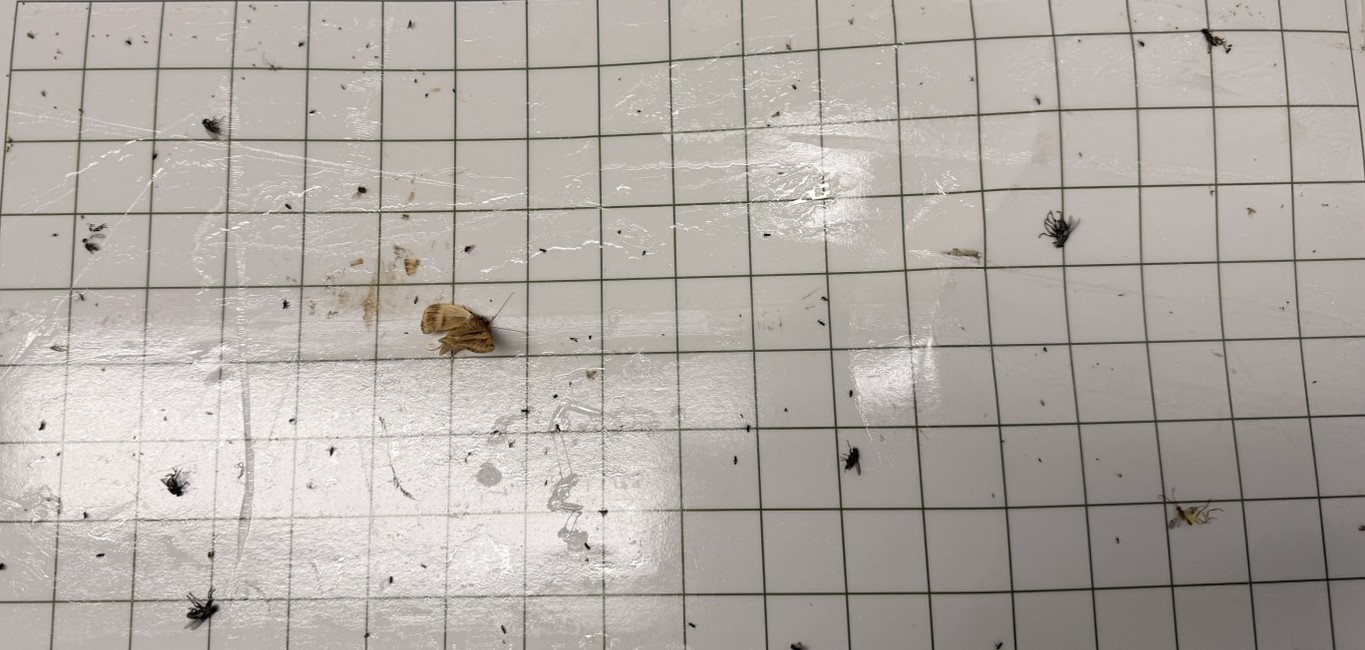fly: (1034, 204, 1083, 250), (177, 586, 225, 632), (153, 465, 196, 499), (838, 438, 871, 477), (200, 114, 231, 140), (79, 235, 107, 259)
test: (421, 298, 501, 360), (1157, 487, 1231, 536), (1198, 25, 1239, 58), (21, 27, 41, 44), (47, 340, 68, 356), (353, 183, 371, 200), (87, 220, 108, 234), (324, 442, 341, 458), (582, 368, 600, 380), (1244, 204, 1259, 218), (518, 404, 533, 418), (787, 639, 806, 650), (462, 243, 478, 256), (551, 421, 564, 436), (497, 622, 512, 635), (280, 296, 293, 310), (783, 39, 796, 53), (1031, 94, 1044, 108), (1135, 38, 1149, 51), (461, 451, 475, 464), (596, 506, 611, 518), (819, 291, 832, 304), (581, 540, 594, 553), (536, 245, 550, 257), (36, 418, 48, 432), (75, 289, 87, 303), (269, 61, 282, 73), (815, 318, 828, 330), (1112, 534, 1124, 547), (385, 575, 398, 587), (405, 18, 417, 30), (205, 549, 217, 561), (1036, 397, 1049, 408), (5, 136, 15, 150), (150, 150, 160, 164), (845, 16, 857, 27), (1040, 344, 1051, 356), (505, 440, 517, 451), (283, 202, 296, 212), (770, 108, 783, 118), (399, 211, 410, 222), (994, 639, 1005, 650), (639, 247, 649, 259), (568, 335, 580, 345), (780, 406, 792, 416), (419, 561, 429, 573), (847, 388, 856, 401), (123, 38, 134, 48), (789, 82, 800, 92), (776, 169, 787, 179), (1074, 37, 1085, 47), (1277, 200, 1287, 211), (1319, 200, 1330, 210), (989, 490, 999, 501), (744, 423, 754, 434), (731, 455, 741, 466), (490, 428, 501, 438), (687, 620, 697, 631), (287, 415, 297, 426), (761, 231, 773, 240), (968, 72, 977, 84), (1208, 187, 1217, 199), (360, 631, 372, 640), (1114, 291, 1127, 299), (1356, 521, 1364, 534), (38, 89, 49, 98), (1116, 470, 1127, 479), (549, 392, 560, 401), (542, 447, 551, 458), (412, 293, 421, 304), (80, 511, 91, 520), (95, 551, 106, 560), (43, 494, 54, 503), (77, 104, 86, 114), (50, 230, 59, 240), (308, 107, 318, 116), (450, 87, 460, 96), (1283, 297, 1293, 306), (1094, 454, 1104, 463), (205, 409, 215, 418), (225, 437, 234, 447), (542, 477, 550, 488), (54, 449, 62, 460), (53, 29, 62, 38), (190, 33, 199, 42), (239, 73, 248, 82), (339, 83, 348, 92), (1172, 24, 1181, 33), (737, 412, 746, 421), (51, 101, 59, 111), (296, 40, 306, 48), (614, 228, 624, 236), (1036, 455, 1044, 465), (100, 366, 108, 376), (83, 5, 92, 13), (208, 92, 217, 100), (616, 74, 624, 83), (765, 121, 773, 130), (1311, 247, 1319, 256), (1278, 304, 1287, 312), (1272, 61, 1280, 70), (566, 380, 574, 389), (139, 450, 148, 458), (52, 53, 59, 63), (365, 40, 372, 50), (997, 438, 1007, 445), (423, 91, 431, 99), (1311, 378, 1319, 386), (586, 333, 594, 341), (158, 406, 166, 414), (129, 450, 137, 458), (958, 325, 966, 333), (79, 213, 88, 220), (167, 30, 174, 39), (373, 53, 382, 60), (1076, 150, 1083, 159), (659, 332, 668, 339), (104, 31, 112, 38), (249, 61, 257, 68), (412, 77, 420, 84), (637, 108, 644, 116), (735, 41, 742, 49), (737, 311, 744, 319), (402, 329, 409, 337), (162, 415, 169, 423), (132, 434, 139, 442), (94, 300, 101, 308), (1168, 308, 1175, 316), (138, 32, 147, 38), (246, 16, 252, 25), (320, 16, 326, 25), (55, 47, 62, 54), (90, 33, 97, 40), (336, 25, 343, 32), (919, 79, 926, 86), (584, 557, 591, 564), (39, 454, 46, 461), (1095, 361, 1102, 368), (20, 2, 28, 8), (142, 38, 150, 44), (362, 68, 368, 76), (0, 562, 5, 571), (273, 3, 279, 10), (350, 54, 357, 60), (499, 1, 507, 6), (23, 507, 29, 513), (248, 2, 253, 8), (251, 6, 257, 11), (421, 71, 426, 77)
